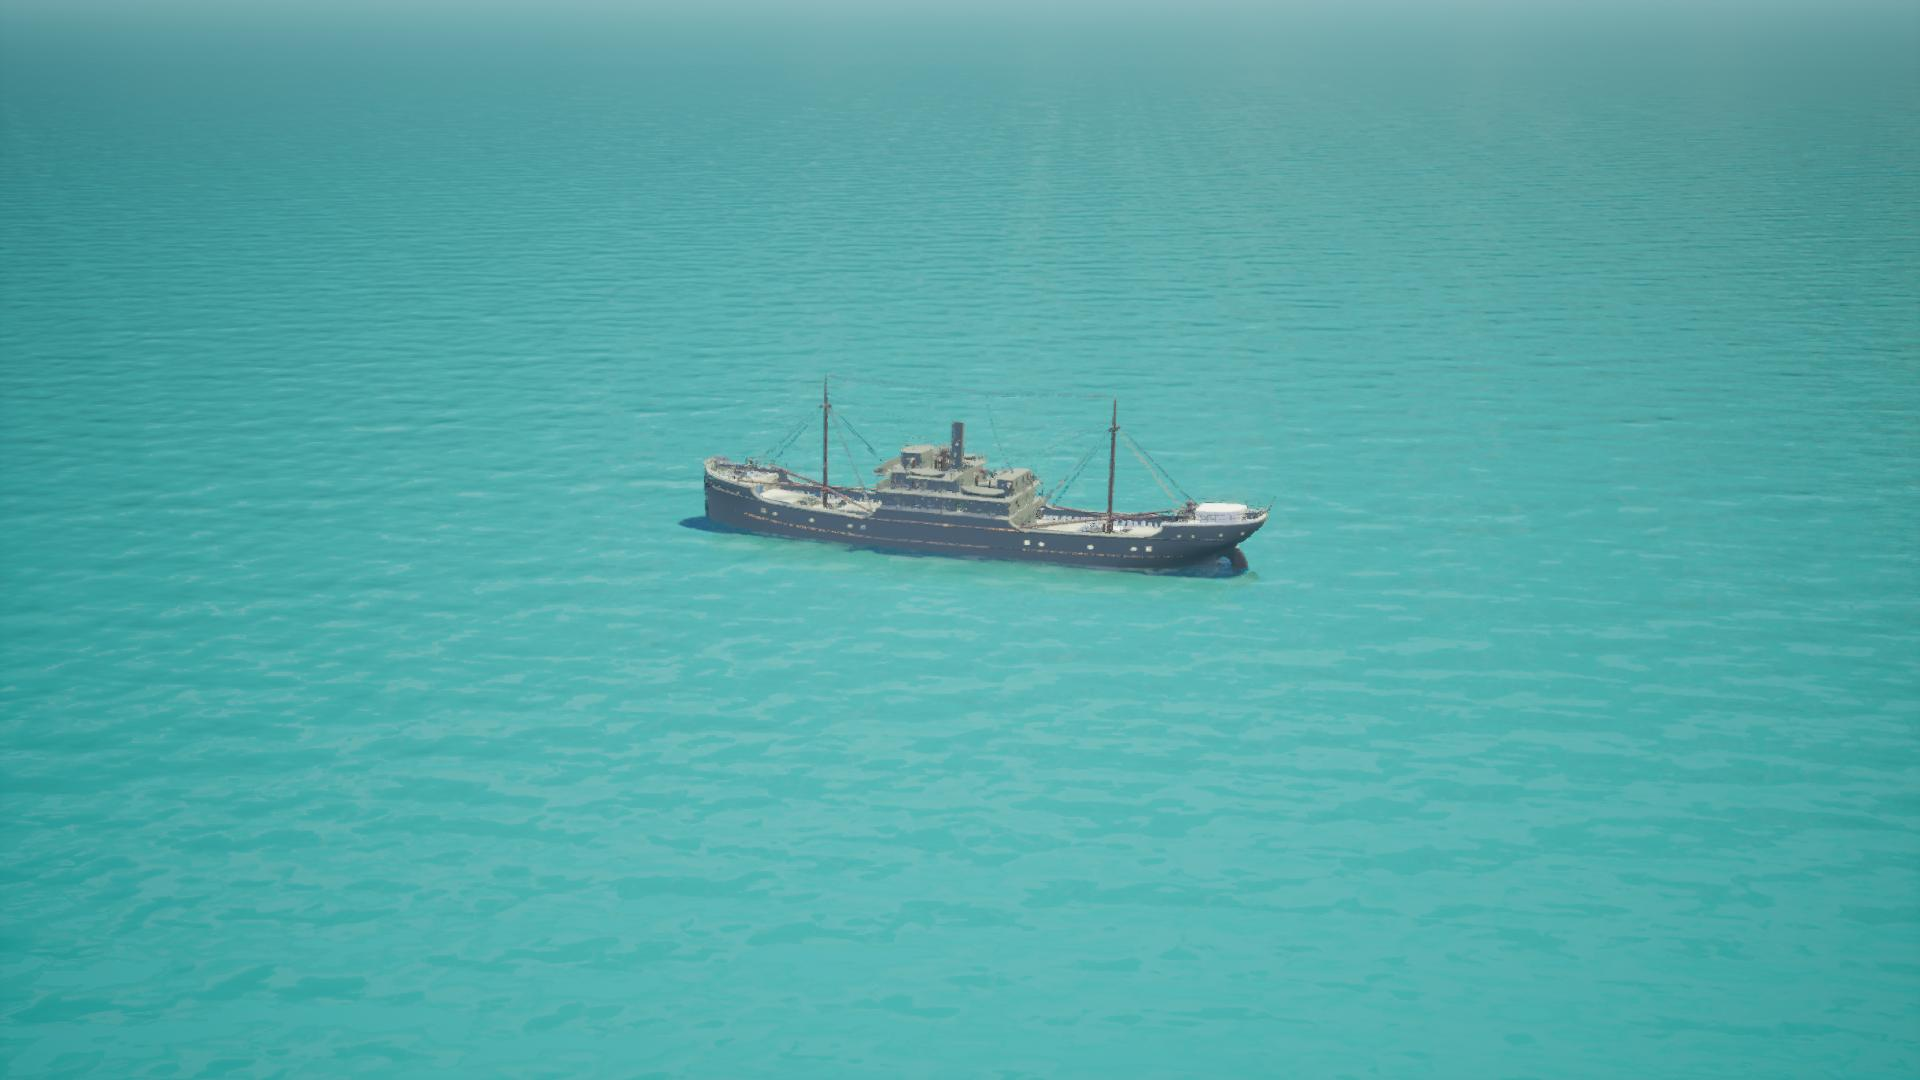Fishing Boat: (692, 384, 1266, 575)
